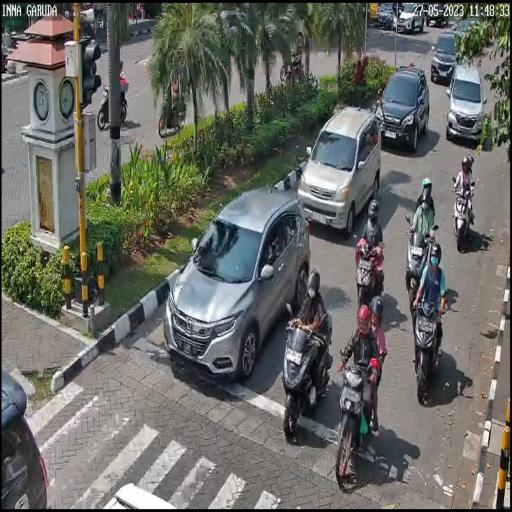mobil: (162, 178, 312, 386), (292, 95, 381, 233), (373, 60, 430, 155), (446, 64, 485, 148), (430, 32, 458, 86)
motor: (280, 298, 333, 442), (335, 347, 377, 488), (409, 297, 445, 406), (402, 213, 438, 302), (350, 232, 385, 304), (451, 174, 475, 254)
